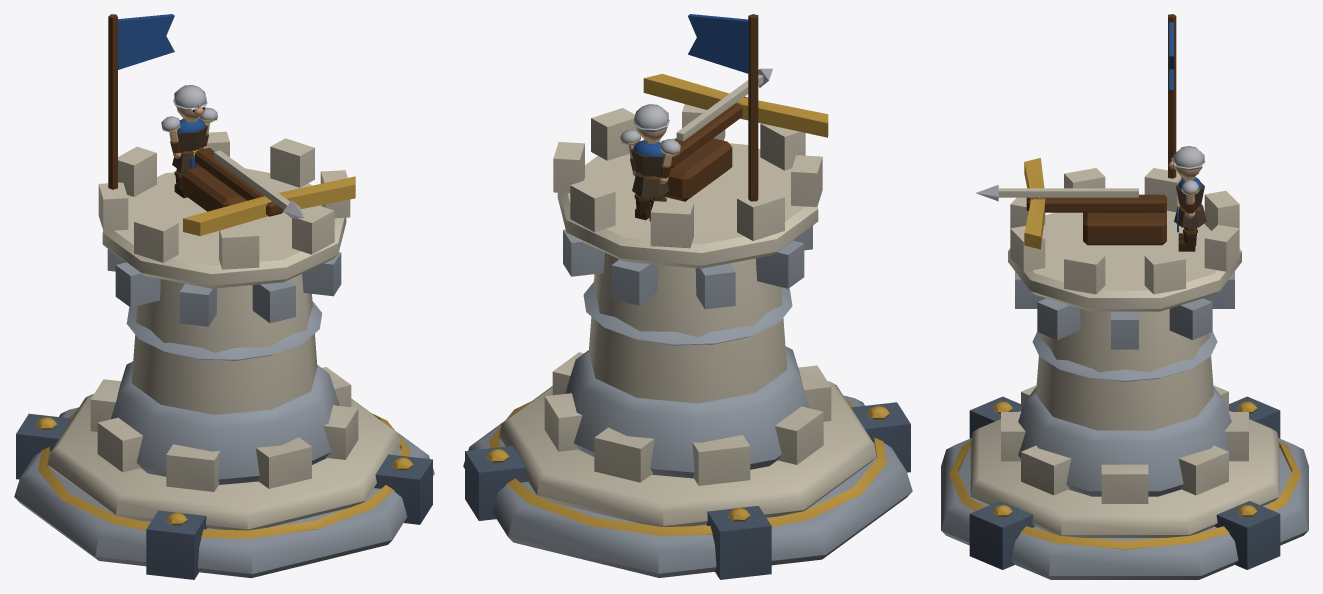
Rendered from alliance_6.glb.
3 renders of one model, left to right at view 1: azimuth 30°, elevation 25°; view 2: azimuth 150°, elevation 25°; view 3: azimuth 270°, elevation 25°, orthographic. The views are drawn at different scales.
Visible parts, largest first — view 1: alliance_6_peint, Tourelle_peint, Buste_peint, Crane_peint; view 2: alliance_6_peint, Tourelle_peint, Buste_peint, Crane_peint; view 3: alliance_6_peint, Tourelle_peint, Buste_peint, Crane_peint.
Boxes of the visible parts, x1,y1,x2,y2 form: alliance_6_peint: [14, 14, 434, 579]; Tourelle_peint: [183, 148, 355, 236]; Buste_peint: [172, 118, 207, 171]; Crane_peint: [173, 85, 207, 119]; alliance_6_peint: [463, 14, 912, 579]; Tourelle_peint: [643, 68, 828, 201]; Buste_peint: [631, 140, 669, 197]; Crane_peint: [633, 104, 669, 140]; alliance_6_peint: [941, 14, 1308, 579]; Tourelle_peint: [976, 158, 1166, 249]; Buste_peint: [1174, 177, 1206, 232]; Crane_peint: [1168, 146, 1205, 178].
Size of the model in its own units: 0.7869 by 1.06 by 0.7869.
